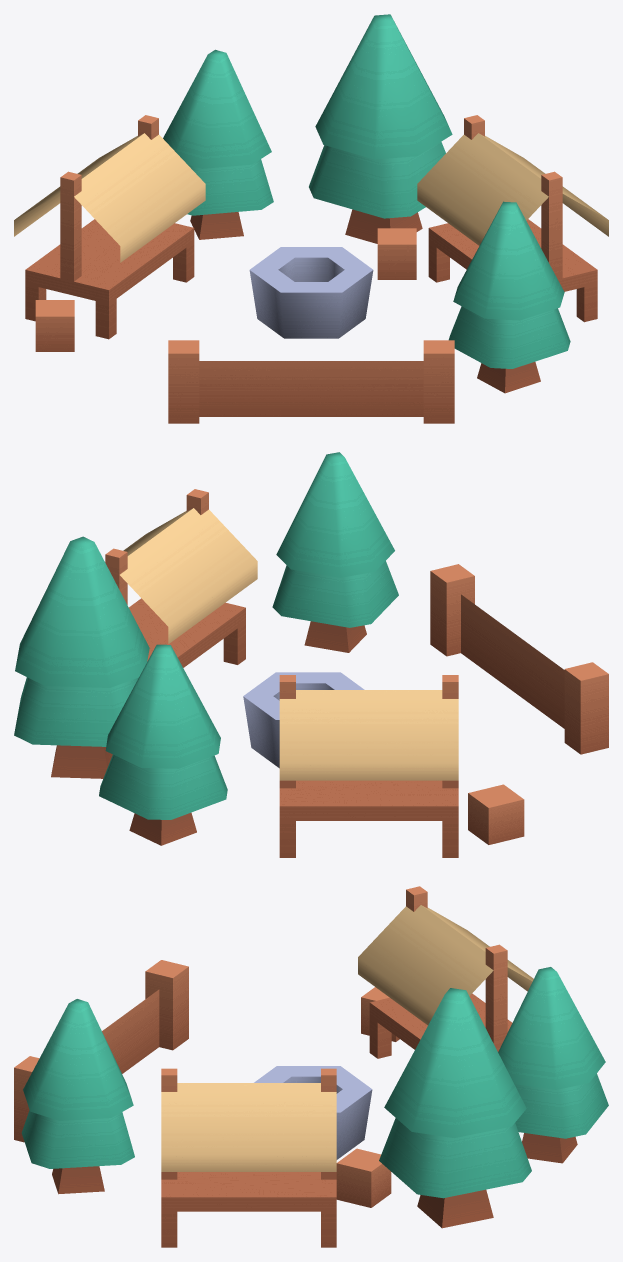
Rendered from hx_building-market.glb.
3 views of the same model, one above another, from view 1: azimuth 30°, elevation 25°; view 2: azimuth 150°, elevation 25°; view 3: azimuth 270°, elevation 25° (orthographic). The views are drawn at different scales.
Bounding box in the file's own units: 0.8696 × 0.38 × 0.9326.
Materials: 1 (1 with a texture image).
